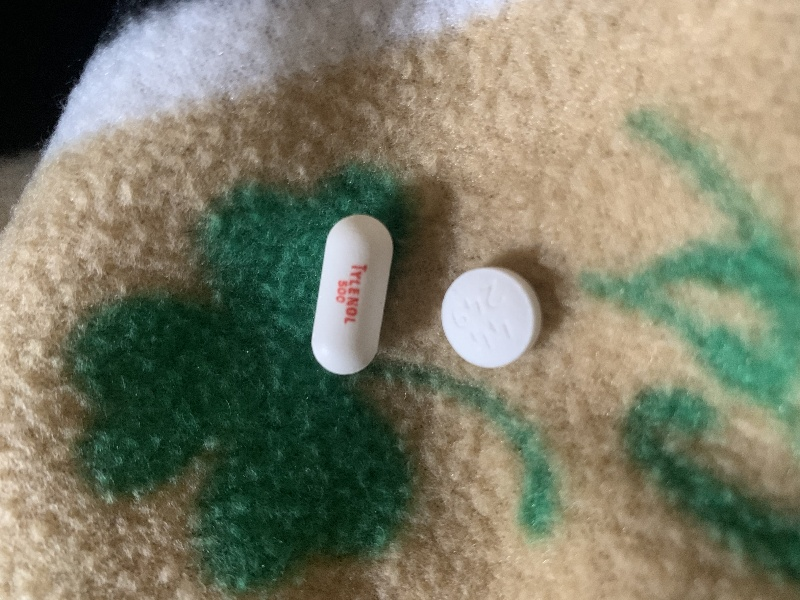Aspirin: (435, 262, 553, 373)
Tylenol: (308, 212, 396, 384)
